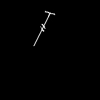treble_crochet: (42, 11, 54, 30)
